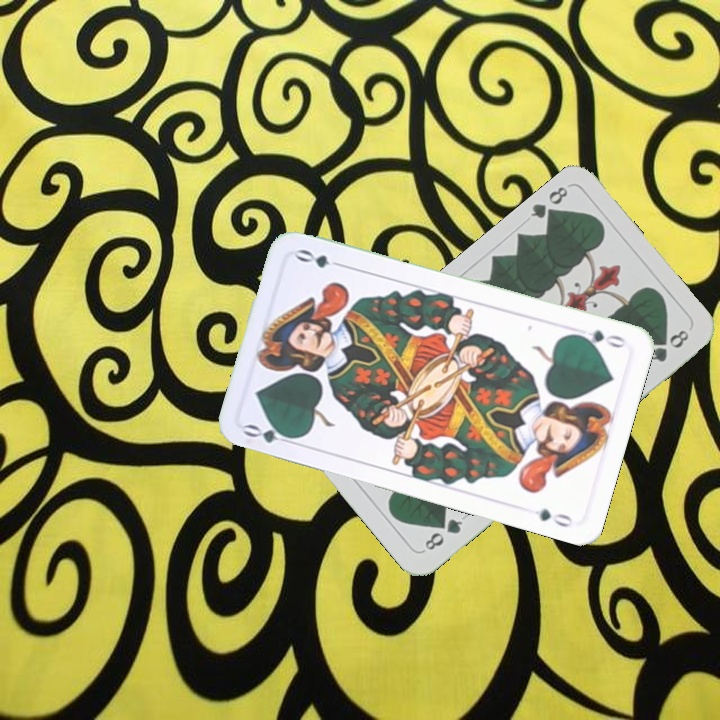G8: (526, 182, 571, 226), (419, 514, 466, 554)
GO: (240, 419, 300, 448), (570, 325, 628, 351)
